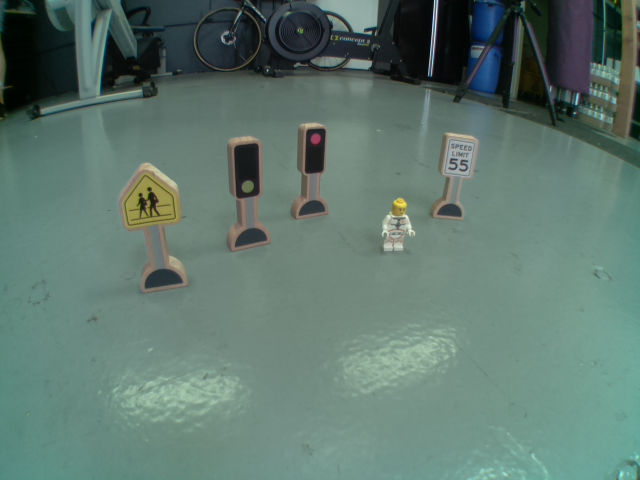Green Traffic Light: (226, 143, 268, 200)
Red Traffic Light: (300, 126, 328, 175)
Speed Limit 55: (443, 133, 477, 180)
YIELD: (119, 166, 182, 230)
person: (376, 195, 417, 253)
